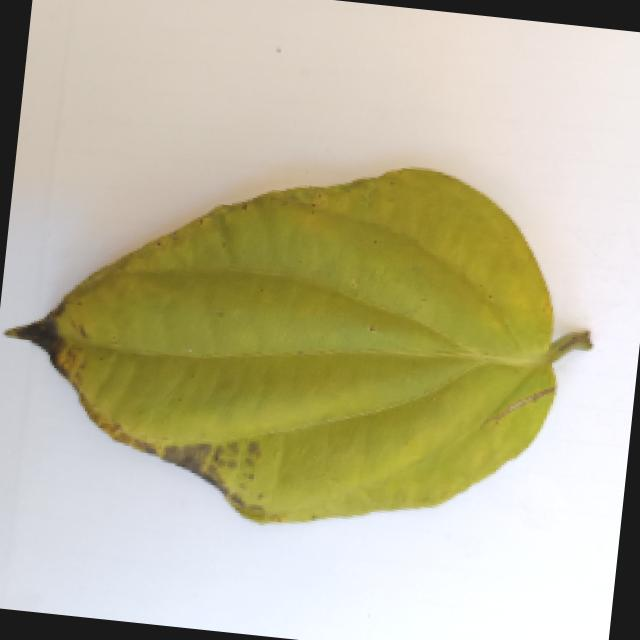slow-decline: (0, 128, 602, 557)
